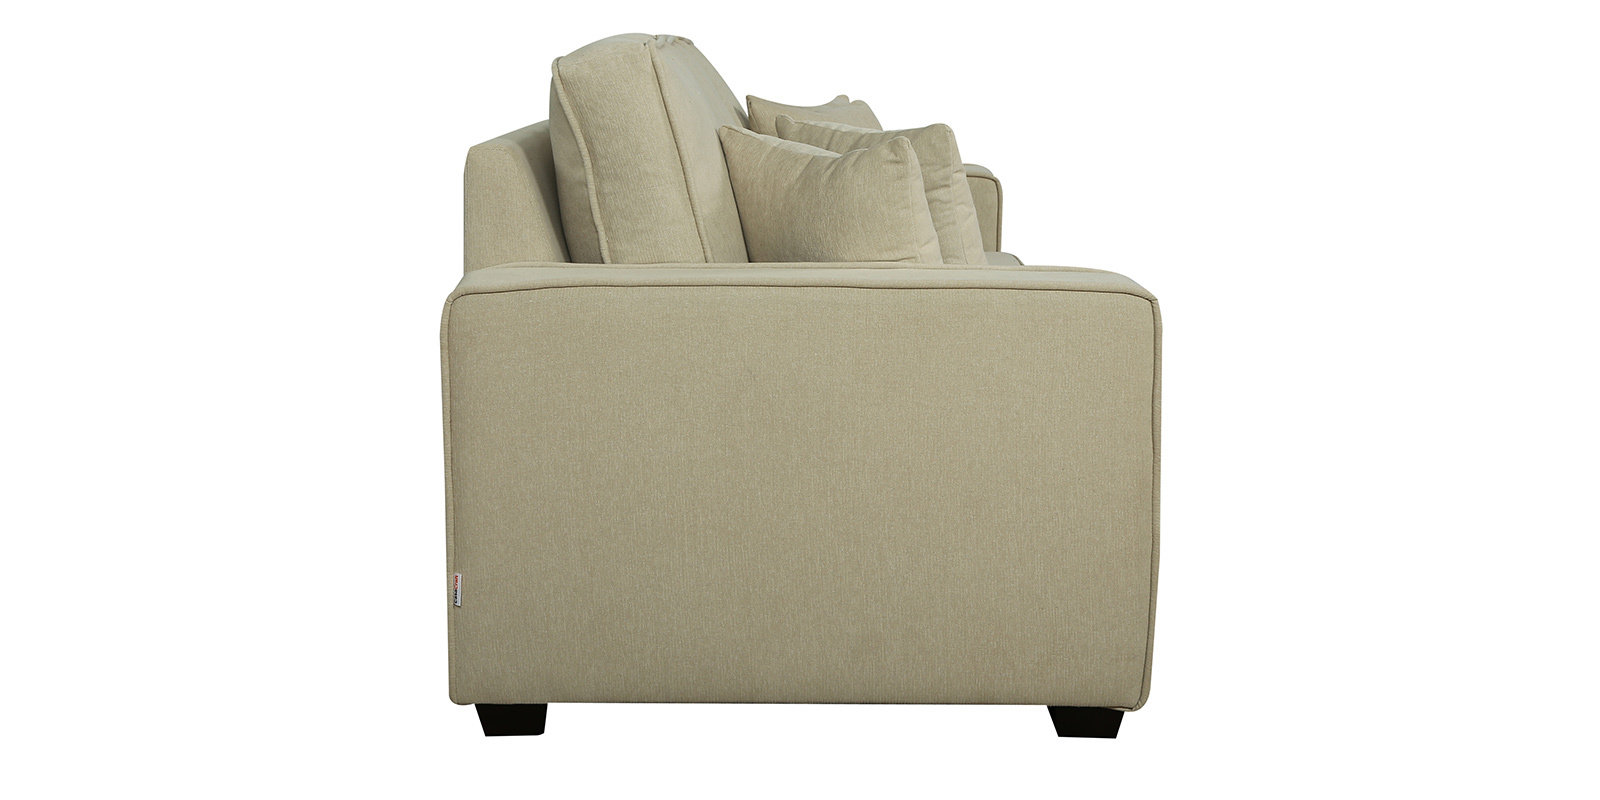Hugo Three Seater Sofa in Beige Colour by CasaCraft: (434, 22, 1166, 756)
